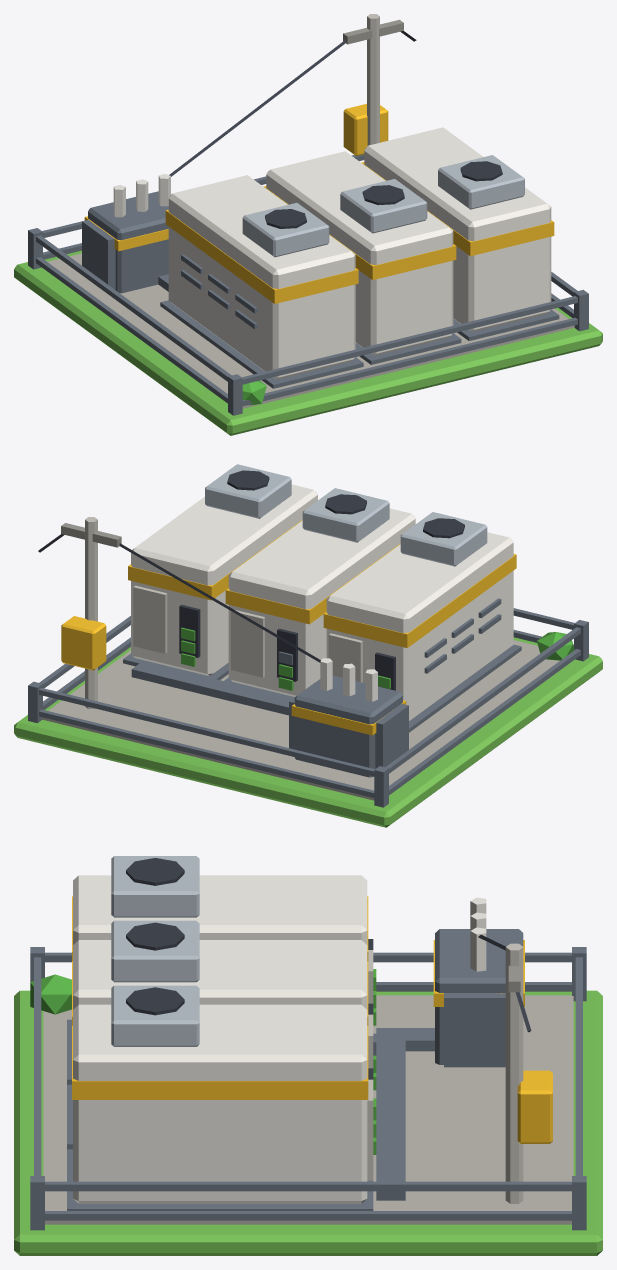
File: grid_battery.glb
3 views of the same model, one above another, from view 1: azimuth 30°, elevation 25°; view 2: azimuth 150°, elevation 25°; view 3: azimuth 270°, elevation 25° (orthographic). The views are drawn at different scales.
Visible parts, largest first — view 1: corpo; view 2: corpo; view 3: corpo.
Boxes of the visible parts, x1,y1,x2,y2 form: corpo: (14,14,602,435); corpo: (14,464,602,827); corpo: (14,856,602,1255).
Bounding box in the file's own units: 2 × 1.05 × 2.
